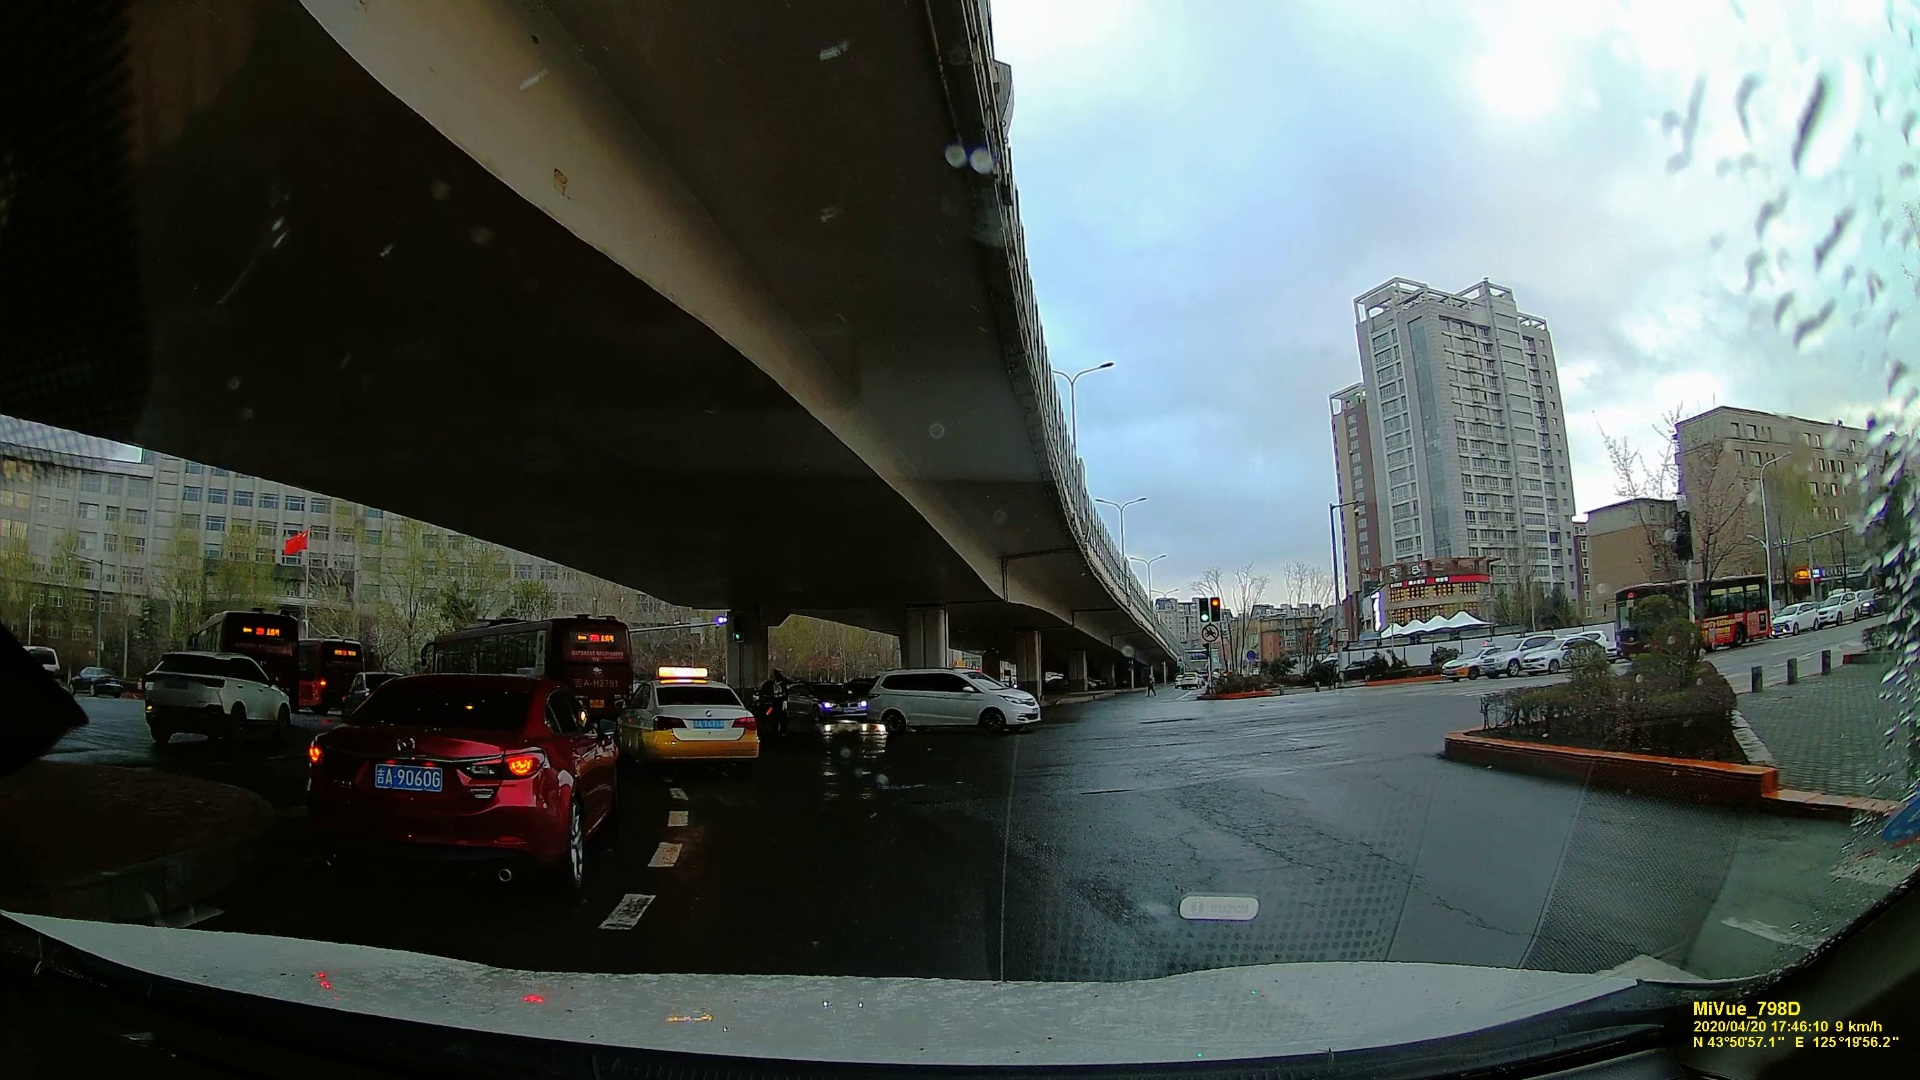bus: (420, 617, 633, 692), (1613, 584, 1765, 648), (215, 607, 299, 690), (303, 638, 362, 715)
person: (1146, 673, 1157, 697)
traffic_sign: (1200, 624, 1219, 642), (1198, 597, 1209, 623), (1210, 597, 1220, 623)
vehicle: (314, 680, 608, 876), (134, 650, 302, 744), (615, 675, 753, 776), (863, 665, 1041, 740)
